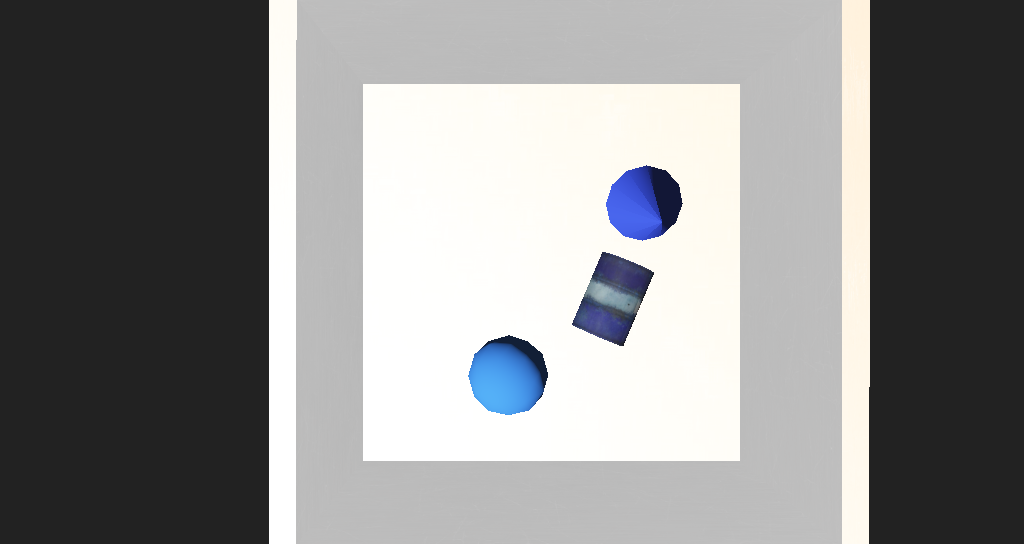cone: (519, 260, 586, 313)
cylinder: (552, 205, 620, 262)
sphere: (441, 301, 502, 348)
